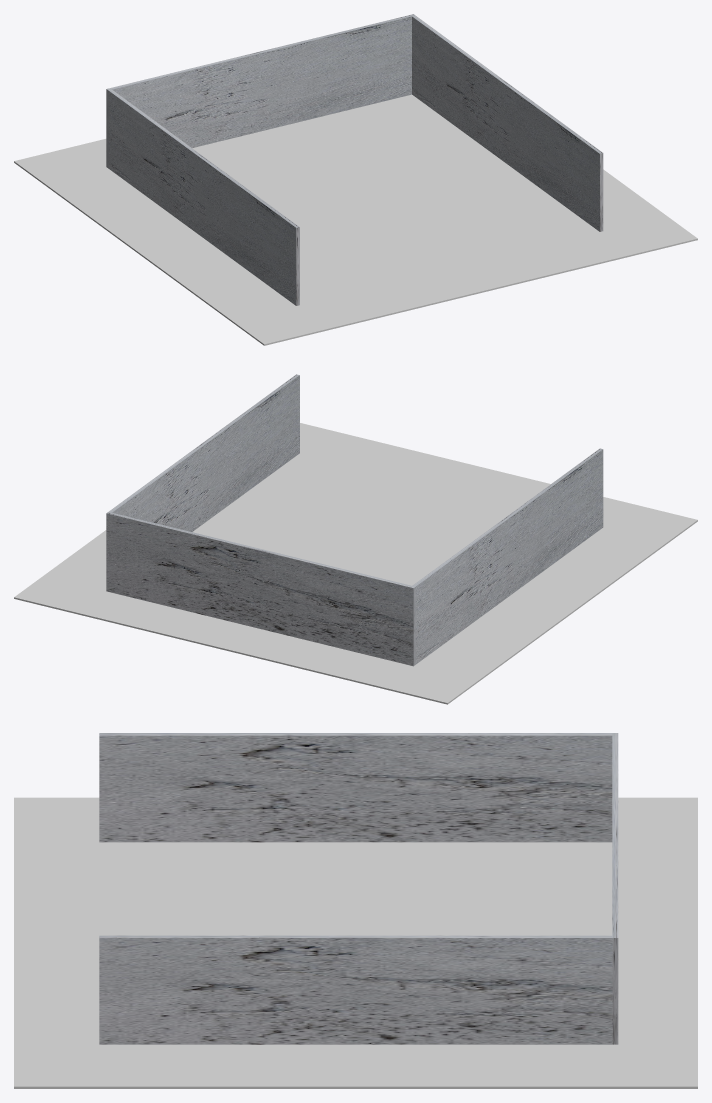
The model's file is wallsAndFloor_Nov17.glb.
3 views of the same model, one above another, from view 1: azimuth 30°, elevation 25°; view 2: azimuth 150°, elevation 25°; view 3: azimuth 270°, elevation 25° (orthographic). The views are drawn at different scales.
Visible parts, largest first — view 1: Floor, FrontWall, LeftWall, RightWall; view 2: Floor, FrontWall, LeftWall, RightWall; view 3: Floor, RightWall, LeftWall, FrontWall.
Part boxes in pixels (x1=…): Floor: x1=14, y1=94, x2=697, y2=345; FrontWall: x1=106, y1=14, x2=415, y2=168; LeftWall: x1=108, y1=89, x2=299, y2=305; RightWall: x1=412, y1=15, x2=603, y2=231; Floor: x1=14, y1=423, x2=697, y2=704; FrontWall: x1=106, y1=512, x2=415, y2=666; LeftWall: x1=412, y1=448, x2=603, y2=664; RightWall: x1=109, y1=374, x2=299, y2=531; Floor: x1=14, y1=797, x2=697, y2=1088; RightWall: x1=99, y1=935, x2=612, y2=1044; LeftWall: x1=99, y1=733, x2=612, y2=842; FrontWall: x1=612, y1=733, x2=618, y2=1044.
Bounding box in the file's own units: 60 × 10.53 × 60.
3 materials, 3 textured.
